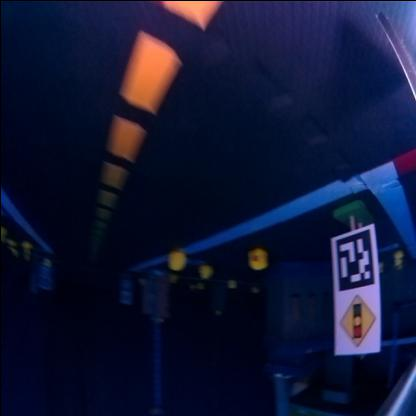Duckie: (248, 248, 264, 270), (167, 252, 185, 270), (392, 251, 402, 268), (198, 265, 210, 278), (225, 279, 235, 289)
QR code: (334, 226, 374, 293)
Signal sign: (335, 294, 377, 352)
